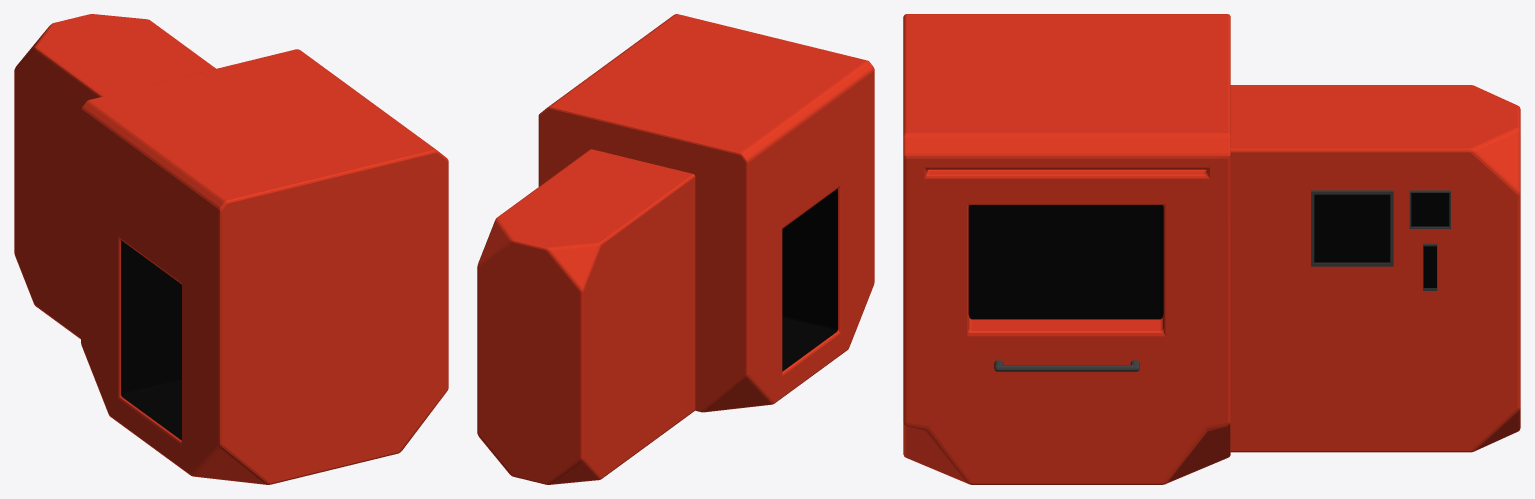
The model's file is Recicler_Alisson3dv.fbx.
The picture shows the model from 3 angles, left to right: view 1: azimuth 30°, elevation 25°; view 2: azimuth 150°, elevation 25°; view 3: azimuth 270°, elevation 25°; orthographic projection. The views are drawn at different scales.
Visible parts, largest first — view 1: Recicladora; view 2: Recicladora; view 3: Recicladora.
Part boxes in pixels (bbox=[...]): Recicladora: bbox=[14, 14, 448, 484]; Recicladora: bbox=[477, 14, 874, 484]; Recicladora: bbox=[903, 14, 1520, 484].
Bounding box in the file's own units: 450 × 524 × 849.
